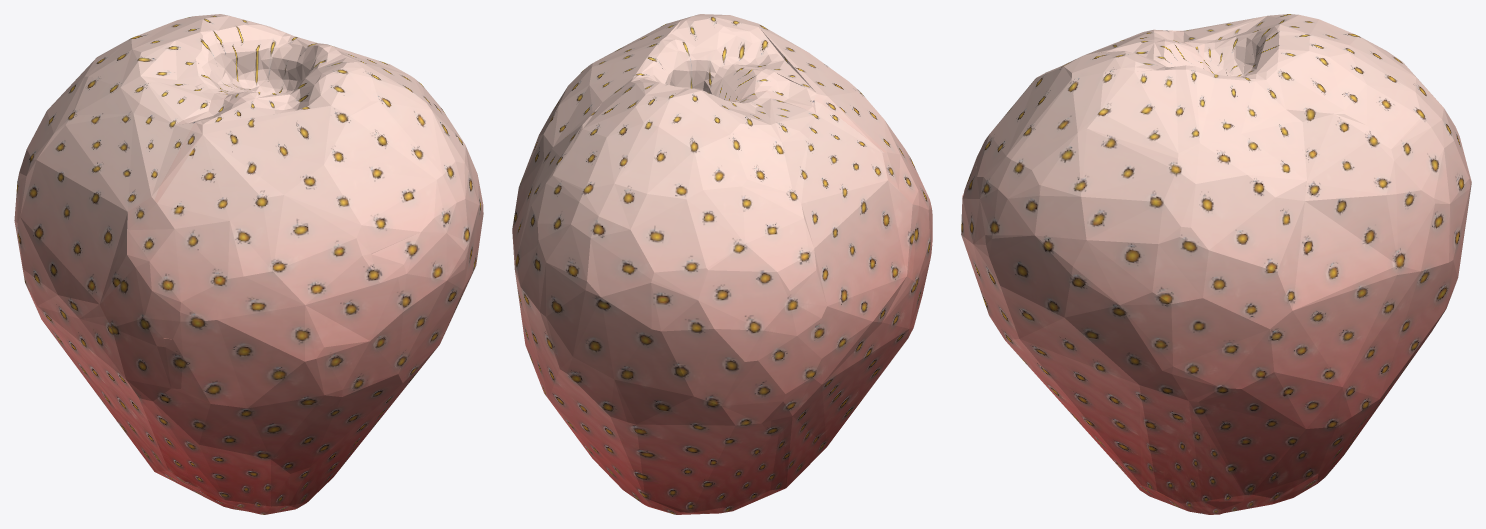
3 renders of one model, left to right at view 1: azimuth 30°, elevation 25°; view 2: azimuth 150°, elevation 25°; view 3: azimuth 270°, elevation 25°, orthographic. The views are drawn at different scales.
Parts seen in each view (by area): view 1: _001_Meshed; view 2: _001_Meshed; view 3: _001_Meshed.
Part boxes in pixels (x1=…): _001_Meshed: x1=14, y1=14, x2=483, y2=514; _001_Meshed: x1=512, y1=14, x2=932, y2=514; _001_Meshed: x1=961, y1=14, x2=1471, y2=514.
Bounding box in the file's own units: 0.0955 × 0.1113 × 0.1115.
Materials: 1 (1 with a texture image).
